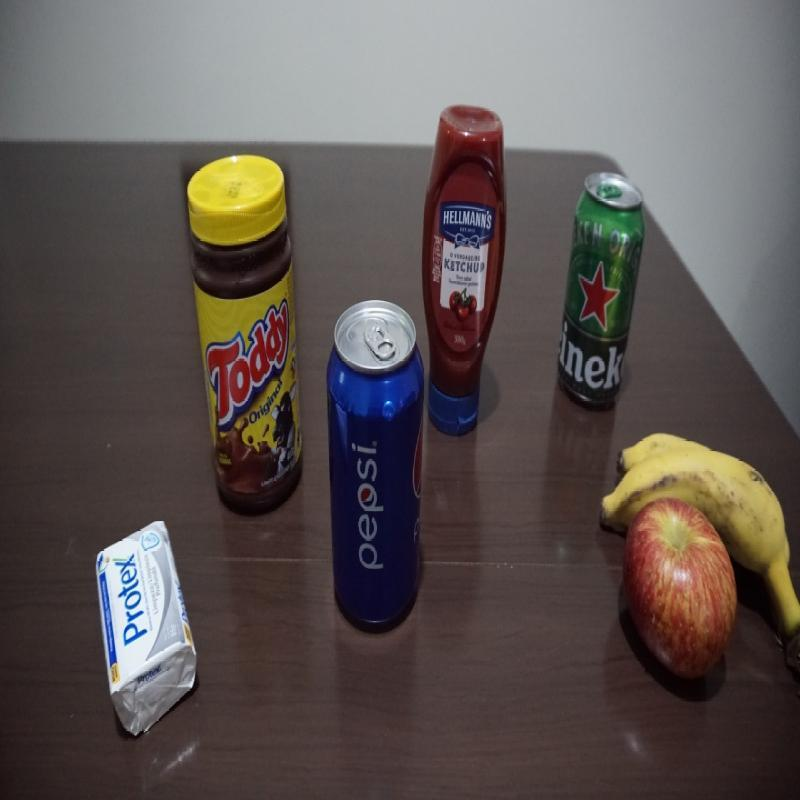Apple: (625, 513, 744, 682)
Banana: (612, 432, 776, 508)
Beer can: (557, 173, 644, 408)
Chocolate Powder: (187, 165, 302, 516)
Ketchup: (424, 102, 508, 438)
Soap: (97, 520, 199, 739)
Soda can: (326, 296, 424, 632)
